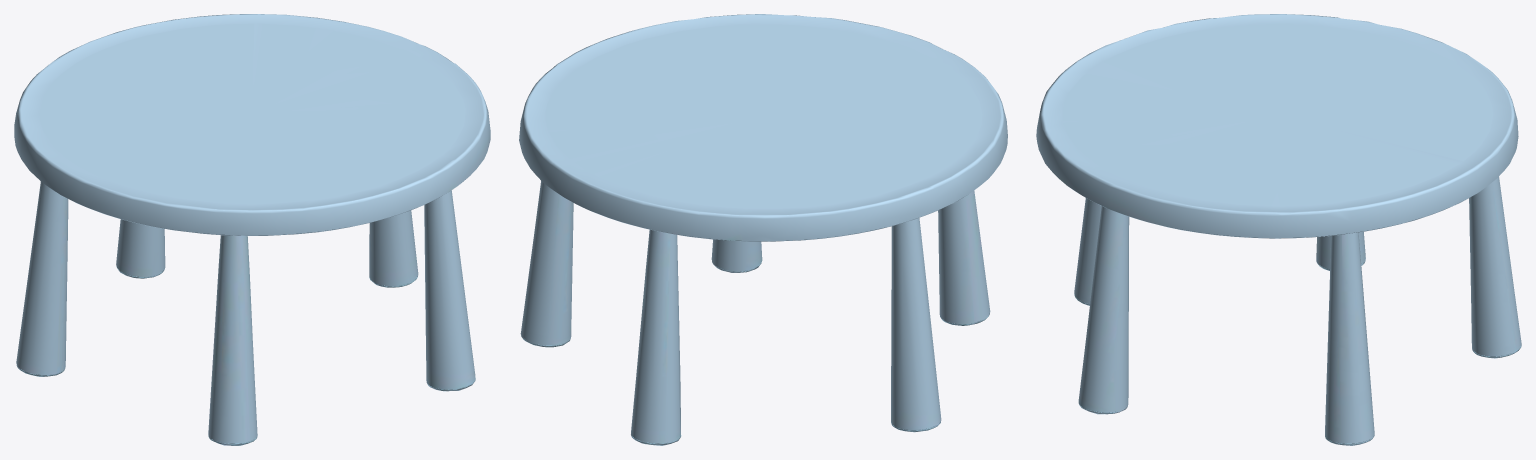
The model's file is 05 - MAMMUT Children_s table - inoutdoorlight blue 85 cm.glb.
The picture shows the model from 3 angles, left to right: view 1: azimuth 30°, elevation 25°; view 2: azimuth 150°, elevation 25°; view 3: azimuth 270°, elevation 25°; orthographic projection. The views are drawn at different scales.
Parts seen in each view (by area): view 1: ASY_ART_10581994_S01_NV01; view 2: ASY_ART_10581994_S01_NV01; view 3: ASY_ART_10581994_S01_NV01.
Boxes of the visible parts, bbox=[...] form: ASY_ART_10581994_S01_NV01: bbox=[14, 14, 490, 445]; ASY_ART_10581994_S01_NV01: bbox=[519, 14, 1007, 445]; ASY_ART_10581994_S01_NV01: bbox=[1036, 14, 1521, 445].
Bounding box in the file's own units: 0.867 × 0.4818 × 0.8728.
Materials: 1 (1 with a texture image).
